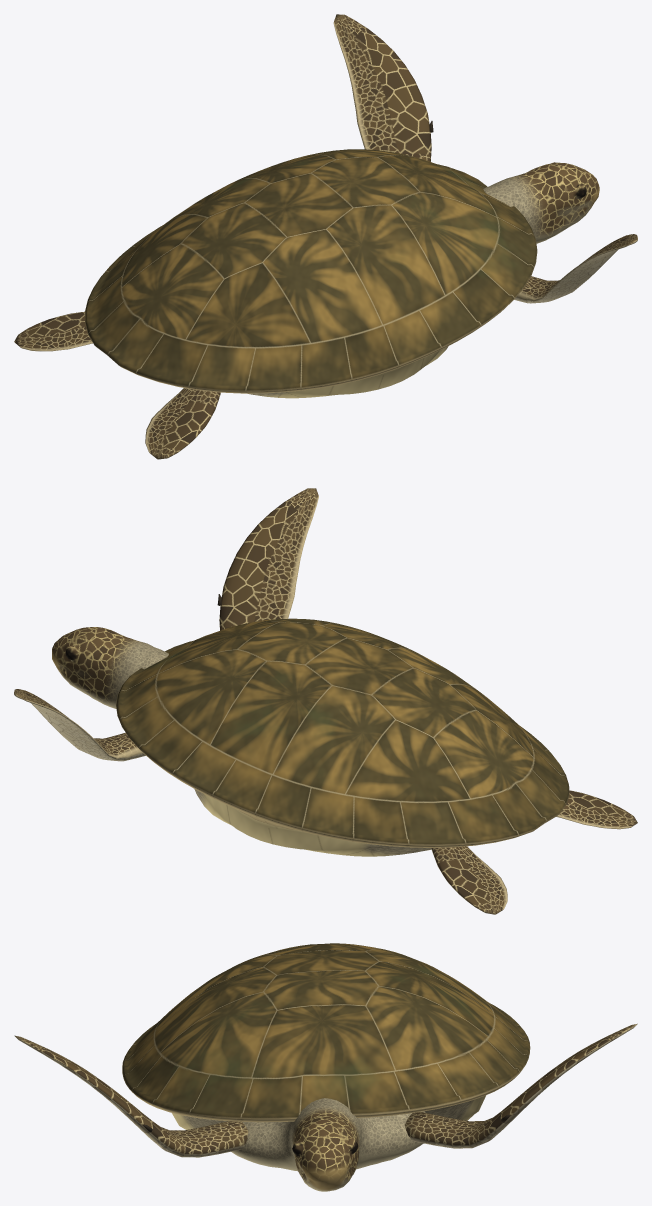
File: SeaTurtle.gltf
3 renders of one model, top to bottom at view 1: azimuth 30°, elevation 25°; view 2: azimuth 150°, elevation 25°; view 3: azimuth 270°, elevation 25°, orthographic. The views are drawn at different scales.
Parts seen in each view (by area): view 1: SeaTurtle; view 2: SeaTurtle; view 3: SeaTurtle.
Boxes of the visible parts, bbox=[...] form: SeaTurtle: bbox=[14, 14, 637, 459]; SeaTurtle: bbox=[14, 488, 637, 914]; SeaTurtle: bbox=[14, 943, 637, 1191].
Bounding box in the file's own units: 1.29 × 0.453 × 1.29.
Materials: 2 (2 with a texture image).
